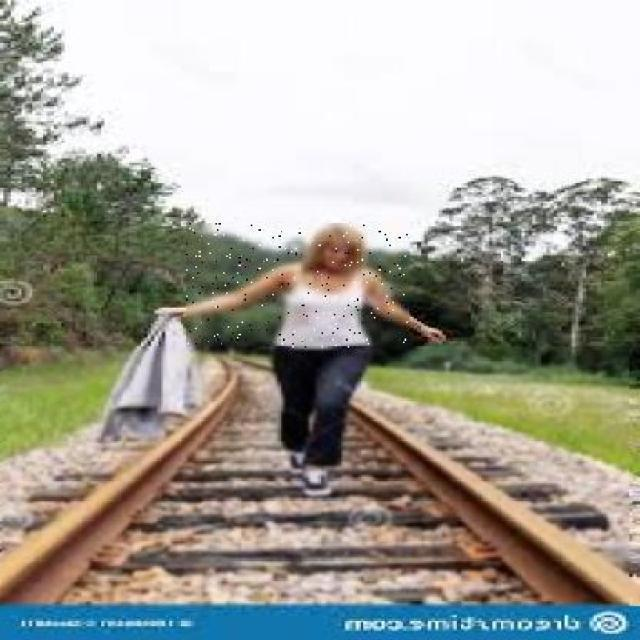rail: (1, 349, 630, 609), (224, 201, 229, 210)
